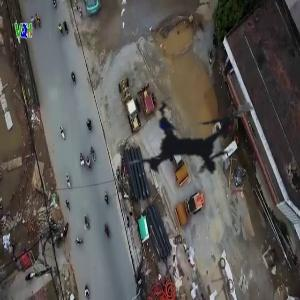drone: (92, 41, 293, 242)
